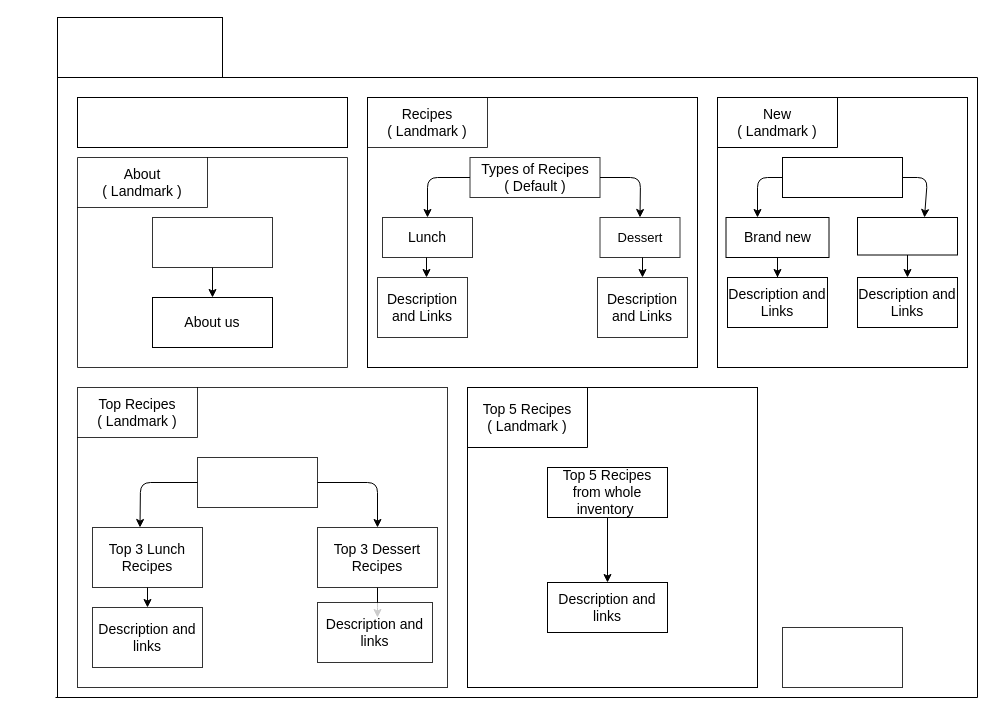
The diagram is 996 pixels wide and 716 high, and some of its shapes have lost their labels. The box of each missing label's shape, as (x1, y1, x2, y2) in pixels:
( Default ): (782, 156, 902, 198)
Contact ( Landmark ): (782, 626, 902, 688)
Default: (152, 216, 272, 268)
Events special: (856, 216, 958, 255)
Recipes home cooking ( Homepage): (76, 96, 348, 148)
Recipes- home cooking: (56, 16, 222, 78)
Types of Recipes: (196, 456, 318, 508)
